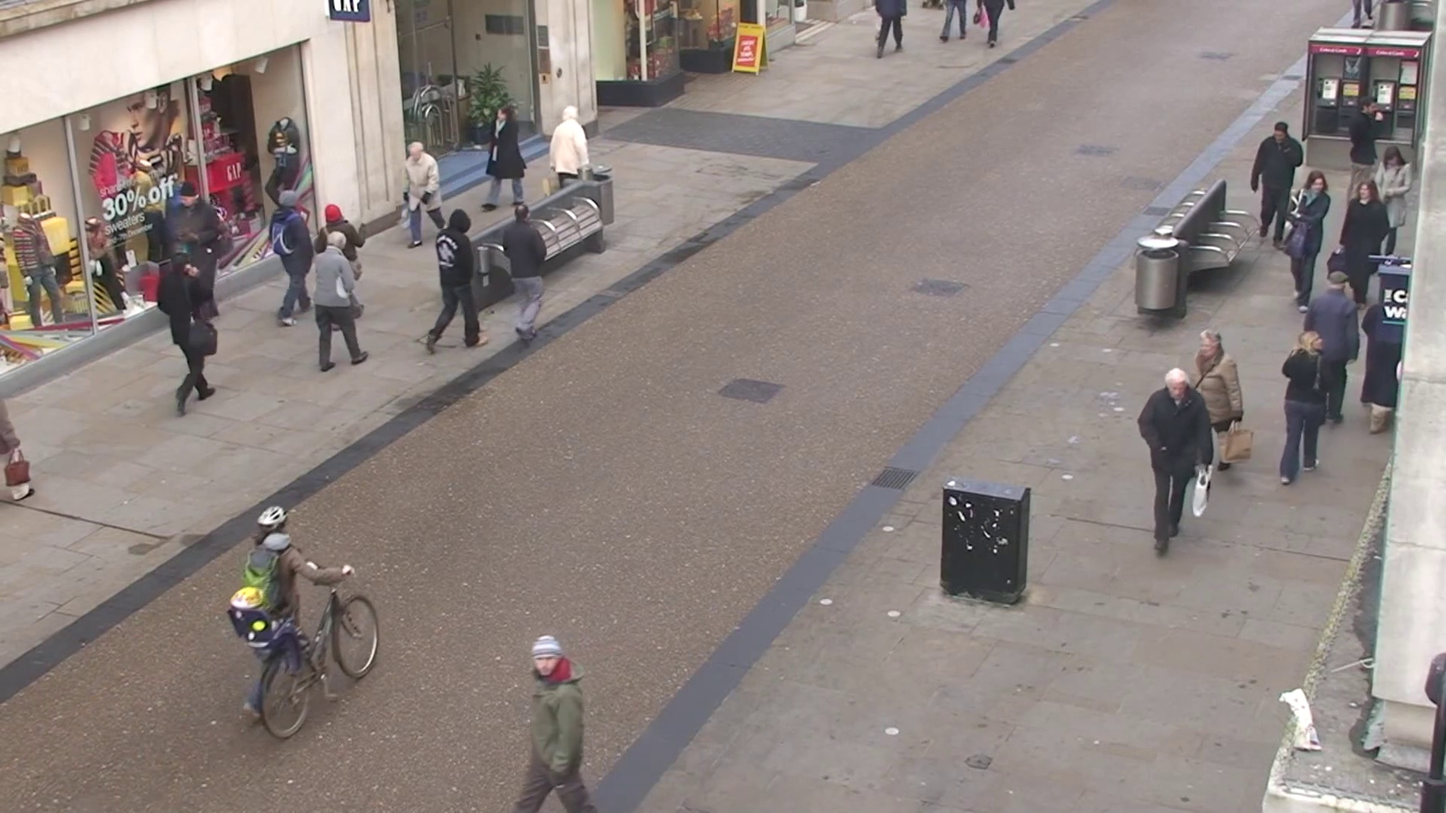person: (230, 507, 348, 721), (1138, 367, 1217, 557), (526, 632, 591, 812), (155, 247, 219, 409), (422, 206, 487, 352), (1304, 268, 1364, 425), (309, 224, 371, 373), (1277, 327, 1329, 488), (1191, 330, 1248, 464), (497, 199, 548, 340), (1283, 169, 1333, 306), (1380, 140, 1427, 282), (1250, 120, 1304, 243), (271, 201, 316, 324), (486, 99, 531, 217), (401, 137, 441, 247), (549, 104, 590, 183)
